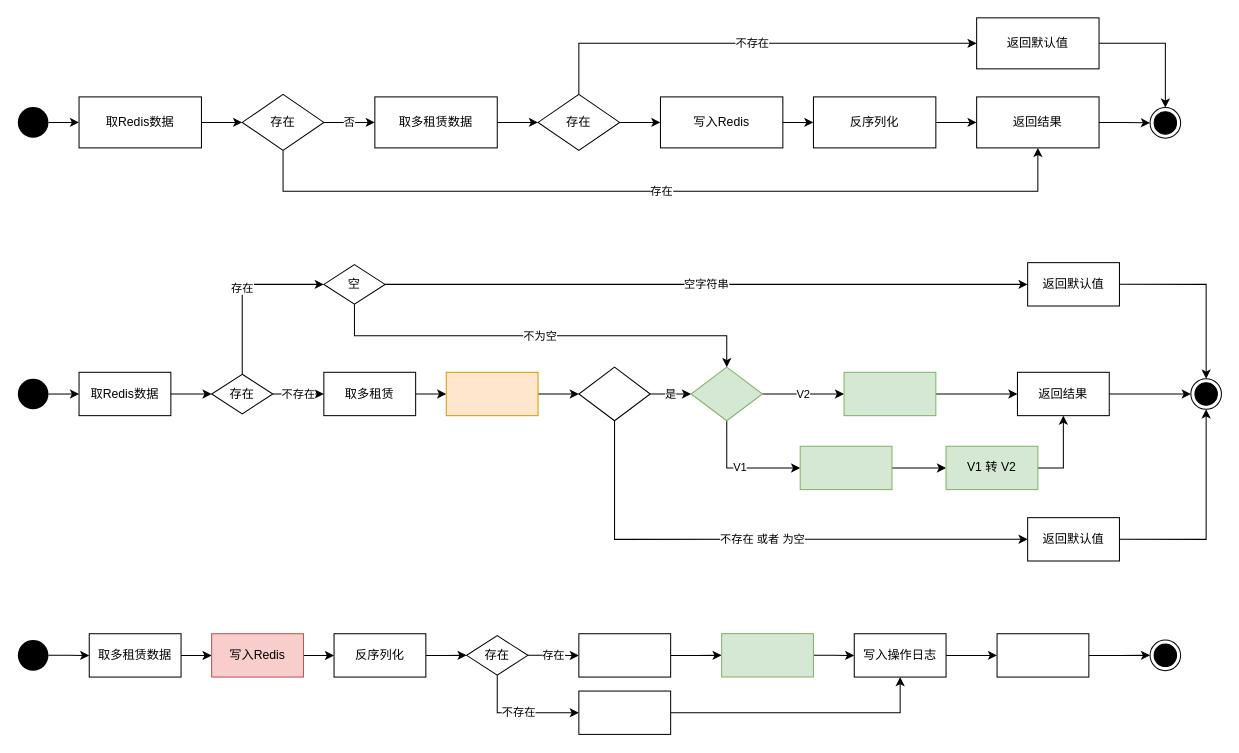
The diagram is 1239 pixels wide and 753 high, and some of its shapes have lost their labels. The shapes that lost their labels are listed below. From the top down, each one's box as (x1, y1, x2, y2) in pixels, then its label:
(445, 371, 538, 416): 写Redis
(578, 366, 650, 421): 存在 且 不为空
(690, 366, 762, 421): 判断版本
(843, 371, 936, 416): V2 反序列化
(799, 445, 892, 490): V1 反序列化
(578, 633, 671, 677): 更新为 新配置
(721, 633, 813, 677): 老配置V1转V2
(996, 633, 1089, 677): 清缓存
(578, 690, 671, 734): 创建 新配置记录
